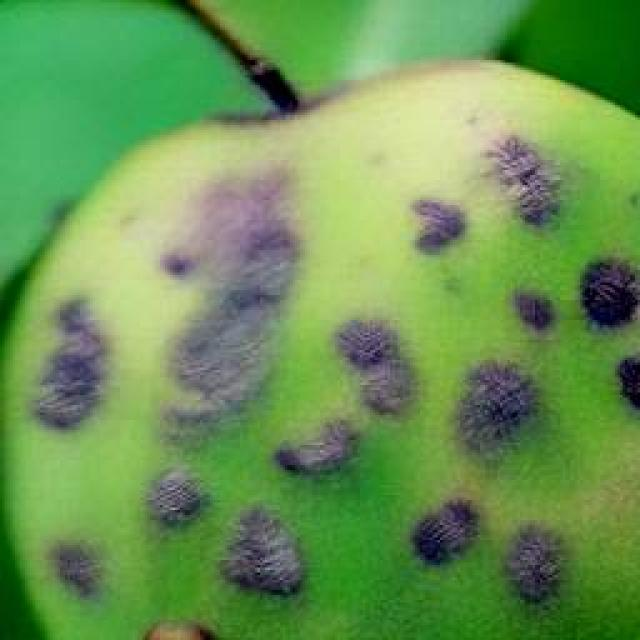healthy: (0, 52, 638, 638)
